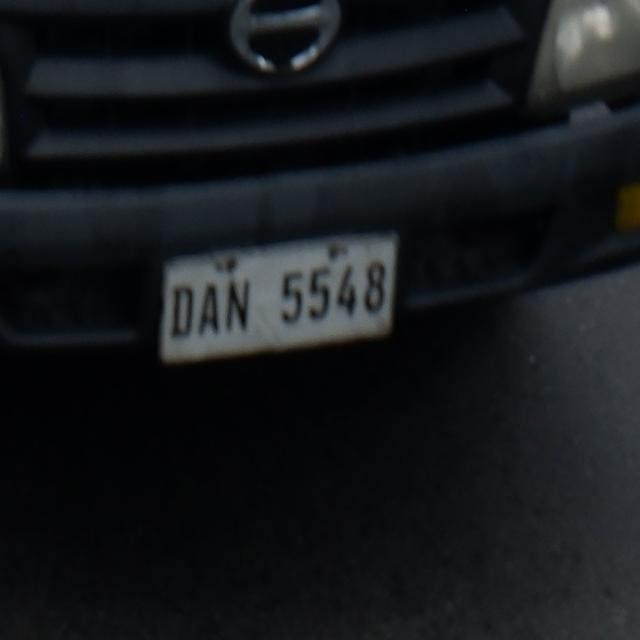LicensePlate: (145, 234, 418, 375)
